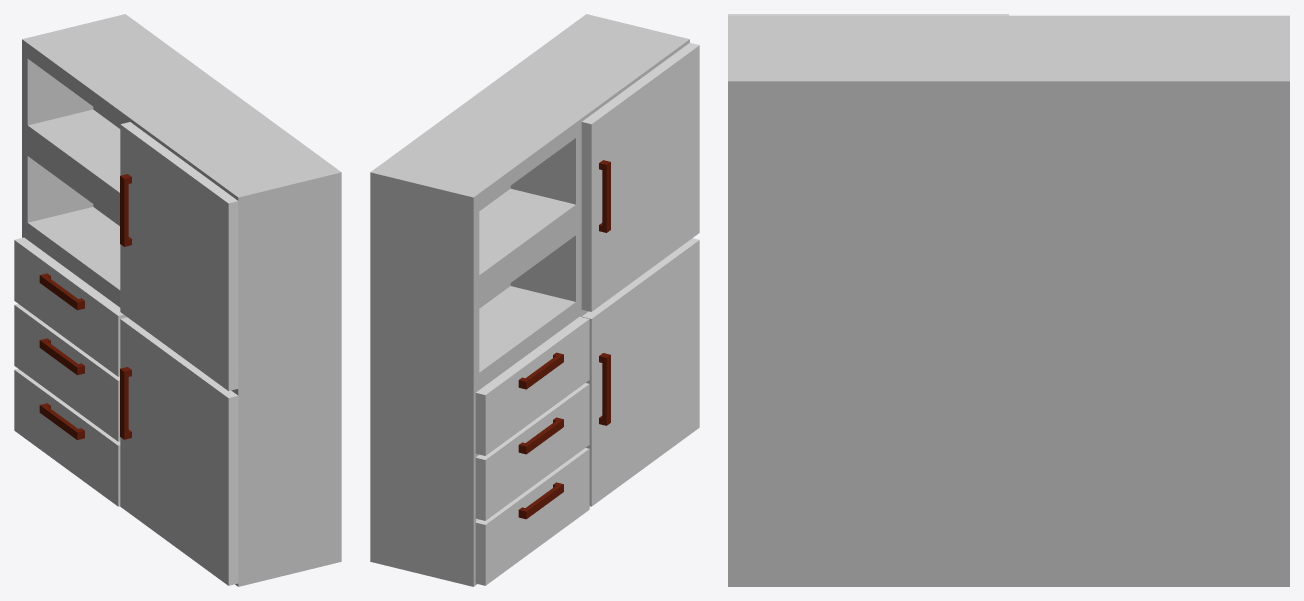
The model's file is cabinet.fbx.
The picture shows the model from 3 angles, left to right: view 1: azimuth 30°, elevation 25°; view 2: azimuth 150°, elevation 25°; view 3: azimuth 270°, elevation 25°; orthographic projection. The views are drawn at different scales.
Visible parts, largest first — view 1: Cabinet, CabinetDoor1, CabinetDoor2, Drawer1, Drawer3, Drawer2, CabinetDoorPull1, CabinetDoorPull2, DrawerPull2, DrawerPull3, DrawerPull1; view 2: Cabinet, CabinetDoor1, CabinetDoor2, Drawer1, Drawer3, Drawer2, CabinetDoorPull1, CabinetDoorPull2, DrawerPull1, DrawerPull2, DrawerPull3; view 3: Cabinet.
Part boxes in pixels (<box>): Cabinet: <box>22,14,341,586</box>; CabinetDoor1: <box>120,122,238,390</box>; CabinetDoor2: <box>120,317,238,585</box>; Drawer1: <box>14,237,126,376</box>; Drawer3: <box>14,368,120,506</box>; Drawer2: <box>14,304,120,441</box>; CabinetDoorPull1: <box>120,174,131,246</box>; CabinetDoorPull2: <box>120,367,131,439</box>; DrawerPull2: <box>39,338,84,375</box>; DrawerPull3: <box>39,403,84,439</box>; DrawerPull1: <box>39,273,84,310</box>; Cabinet: <box>370,14,689,586</box>; CabinetDoor1: <box>581,43,699,311</box>; CabinetDoor2: <box>582,238,699,506</box>; Drawer1: <box>475,316,589,455</box>; Drawer3: <box>475,448,589,585</box>; Drawer2: <box>475,383,589,520</box>; CabinetDoorPull1: <box>599,160,610,232</box>; CabinetDoorPull2: <box>599,353,610,425</box>; DrawerPull1: <box>518,352,563,389</box>; DrawerPull2: <box>518,417,563,454</box>; DrawerPull3: <box>518,482,563,519</box>; Cabinet: <box>728,15,1289,586</box>.
Bounding box in the file's own units: 234 × 720 × 725.
